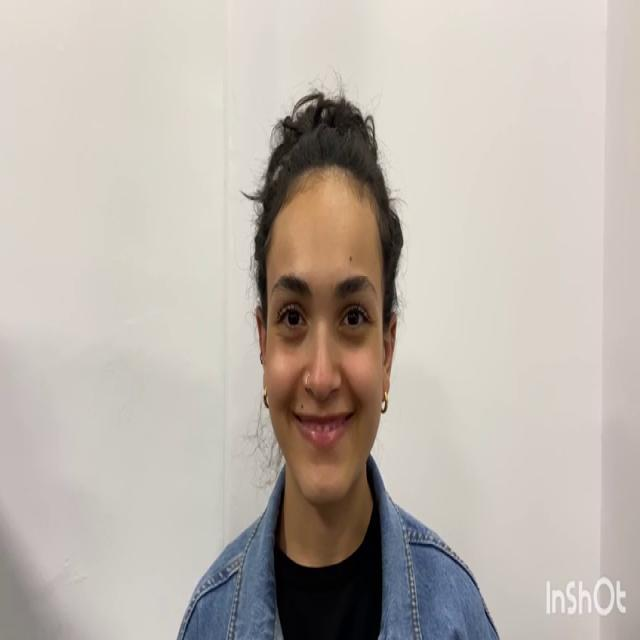happy: (264, 177, 386, 513)
